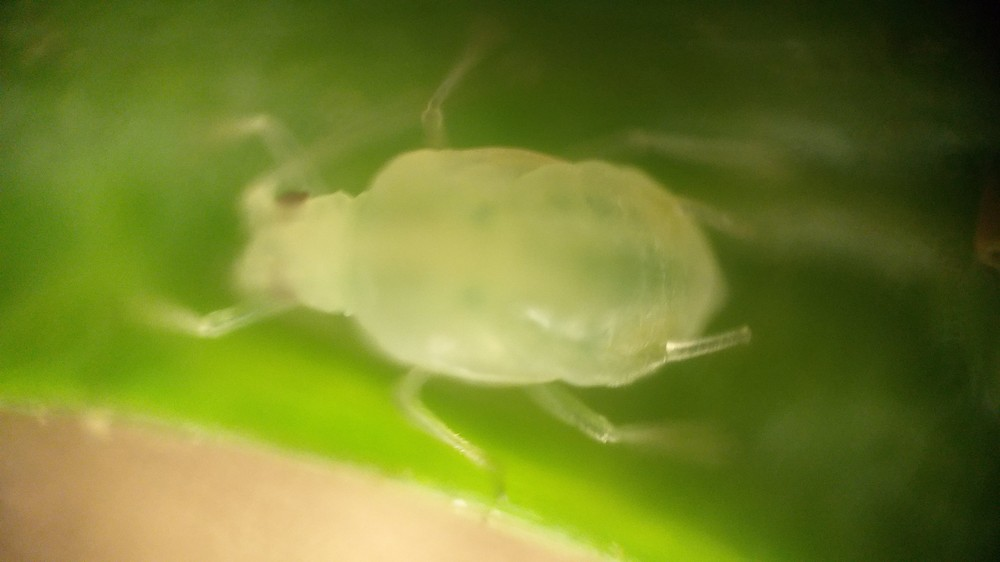Pulgon: (158, 35, 869, 493)
